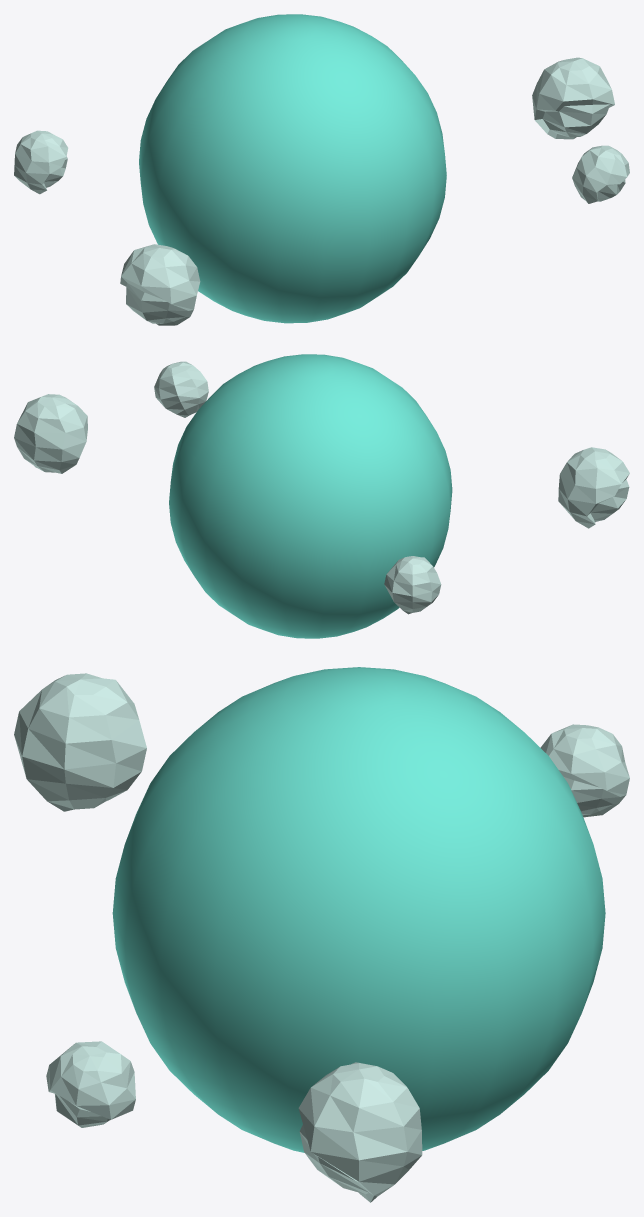
File: Moon01.fbx
3 views of the same model, one above another, from view 1: azimuth 30°, elevation 25°; view 2: azimuth 150°, elevation 25°; view 3: azimuth 270°, elevation 25° (orthographic). The views are drawn at different scales.
Parts seen in each view (by area): view 1: Moon, MoonParticle, MoonParticle2, MoonParticle3, MoonParticle1; view 2: Moon, MoonParticle, MoonParticle2, MoonParticle3, MoonParticle1; view 3: Moon, MoonParticle2, MoonParticle, MoonParticle1, MoonParticle3.
Boxes of the visible parts, <box> form: Moon: <box>139,14,446,323</box>; MoonParticle: <box>532,57,614,139</box>; MoonParticle2: <box>120,244,200,325</box>; MoonParticle3: <box>14,130,68,194</box>; MoonParticle1: <box>572,145,629,203</box>; Moon: <box>169,354,452,638</box>; MoonParticle: <box>14,394,87,473</box>; MoonParticle2: <box>558,447,629,528</box>; MoonParticle3: <box>384,556,441,614</box>; MoonParticle1: <box>154,361,208,417</box>; Moon: <box>112,667,605,1152</box>; MoonParticle2: <box>14,673,146,811</box>; MoonParticle: <box>298,1062,422,1202</box>; MoonParticle1: <box>46,1041,135,1127</box>; MoonParticle3: <box>540,724,629,817</box>.
Bounding box in the file's own units: 15.38 × 7.2 × 9.
